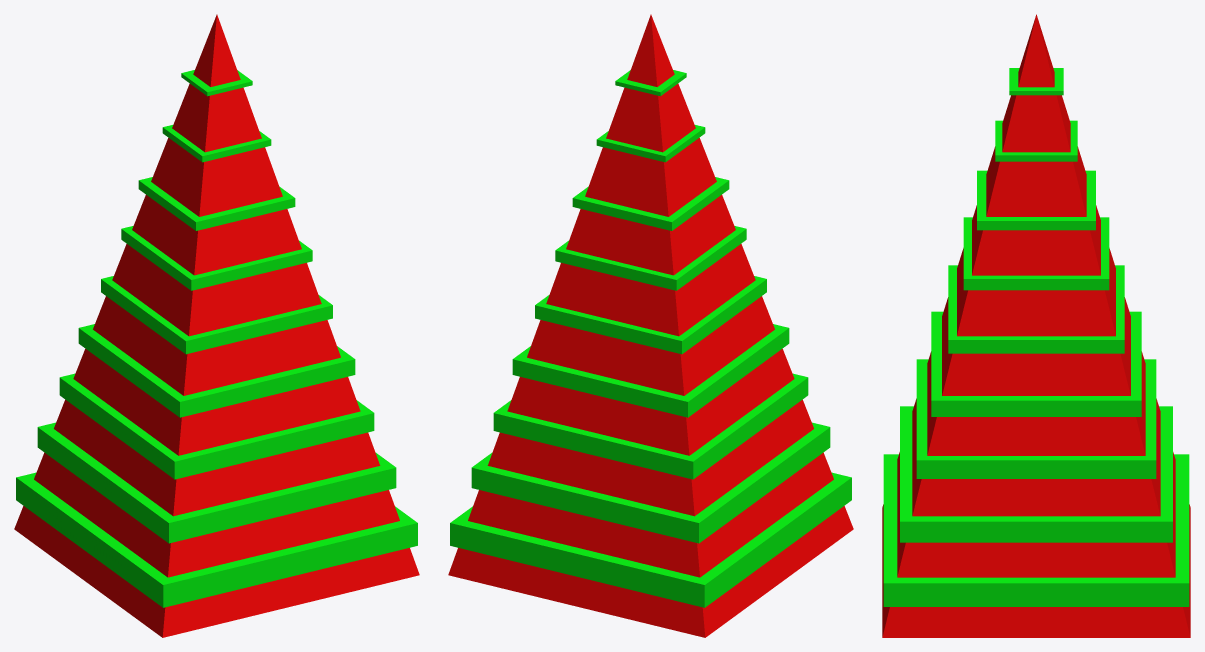
Rendered from SM_MidPyramid.FBX.
3 views of the same model, side by side, from view 1: azimuth 30°, elevation 25°; view 2: azimuth 150°, elevation 25°; view 3: azimuth 270°, elevation 25° (orthographic). The views are drawn at different scales.
Visible parts, largest first — view 1: Pyramid001; view 2: Pyramid001; view 3: Pyramid001.
Boxes of the visible parts, x1,y1,x2,y2 form: Pyramid001: (14,14,419,637); Pyramid001: (448,14,853,637); Pyramid001: (882,14,1190,637).
Bounding box in the file's own units: 40 × 80 × 40.
